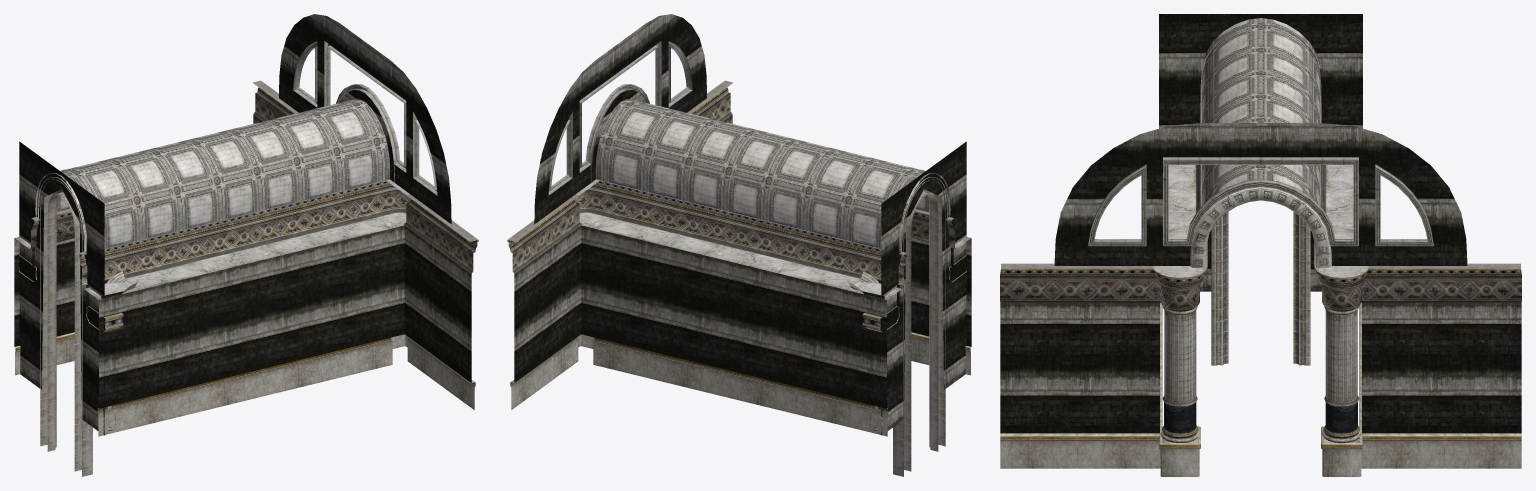
The model's file is KnightCastle_DockRoom_Hallway.FBX.
3 views of the same model, side by side, from view 1: azimuth 30°, elevation 25°; view 2: azimuth 150°, elevation 25°; view 3: azimuth 270°, elevation 25° (orthographic). The views are drawn at different scales.
Parts seen in each view (by area): view 1: SM_KnightCastle_DockRoom_Hallway; view 2: SM_KnightCastle_DockRoom_Hallway; view 3: SM_KnightCastle_DockRoom_Hallway.
Boxes of the visible parts, bbox=[...] form: SM_KnightCastle_DockRoom_Hallway: bbox=[14, 14, 478, 476]; SM_KnightCastle_DockRoom_Hallway: bbox=[507, 14, 971, 476]; SM_KnightCastle_DockRoom_Hallway: bbox=[1000, 14, 1521, 476].
Size of what is drawn, in the model's own units: 2117 by 2431 by 2125.
